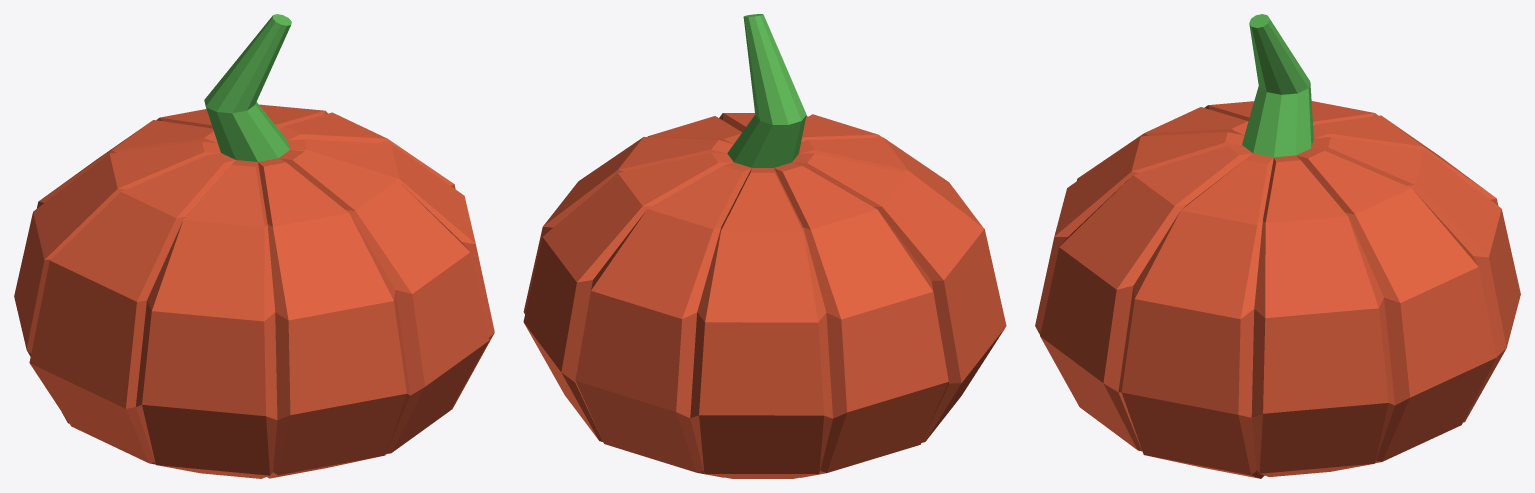
The model's file is pumpkin.glb.
The picture shows the model from 3 angles, left to right: view 1: azimuth 30°, elevation 25°; view 2: azimuth 150°, elevation 25°; view 3: azimuth 270°, elevation 25°; orthographic projection. The views are drawn at different scales.
Visible parts, largest first — view 1: Pumpkin_Crop; view 2: Pumpkin_Crop; view 3: Pumpkin_Crop.
Boxes of the visible parts, left/top/right/bottom form: Pumpkin_Crop: left=14, top=14, right=494, bottom=478; Pumpkin_Crop: left=523, top=14, right=1006, bottom=478; Pumpkin_Crop: left=1035, top=14, right=1520, bottom=478.
Bounding box in the file's own units: 0.5875 × 0.5544 × 0.5781.
